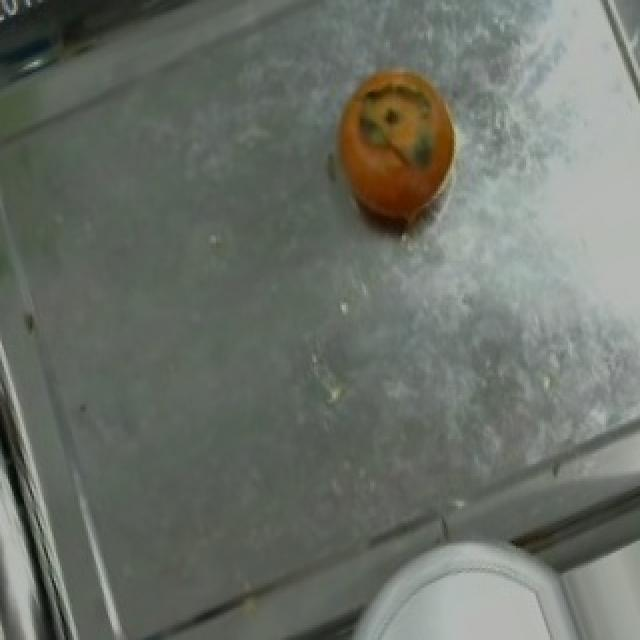Fruit: (312, 50, 476, 243), (356, 545, 576, 640)
